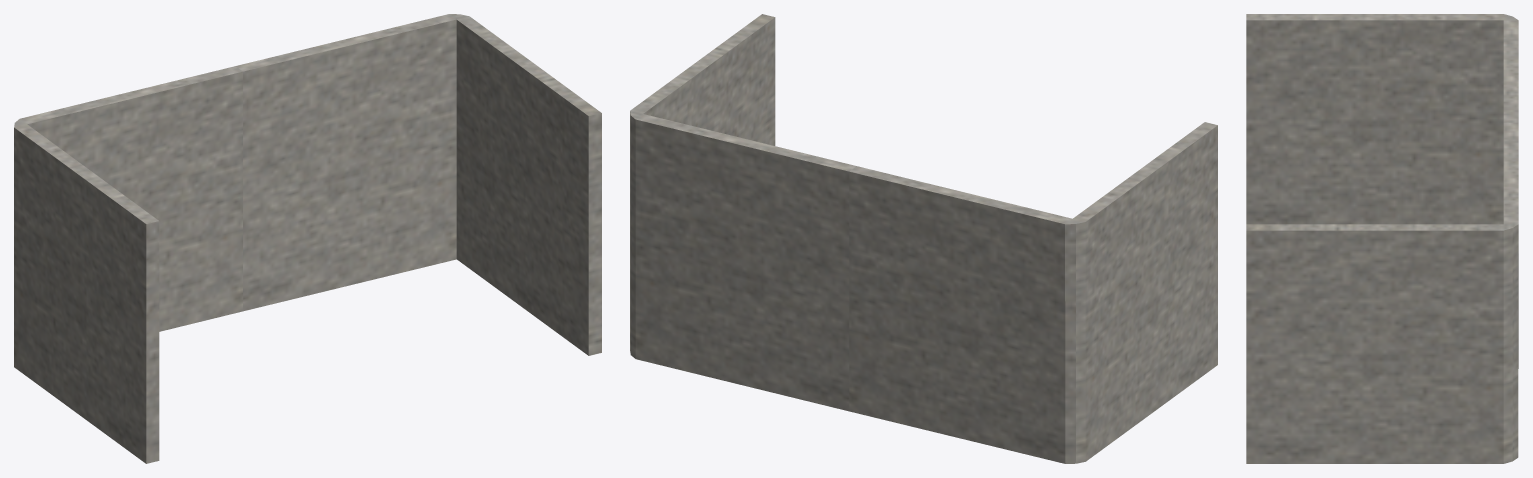
File: divider_full_c.obj
3 views of the same model, side by side, from view 1: azimuth 30°, elevation 25°; view 2: azimuth 150°, elevation 25°; view 3: azimuth 270°, elevation 25° (orthographic). The views are drawn at different scales.
Visible parts, largest first — view 1: divider_full_c; view 2: divider_full_c; view 3: divider_full_c.
Part boxes in pixels (bbox=[...]): divider_full_c: bbox=[14, 14, 601, 463]; divider_full_c: bbox=[630, 14, 1217, 463]; divider_full_c: bbox=[1246, 14, 1518, 463].
Size of the model in its own units: 2.99 by 1.5 by 1.59.
